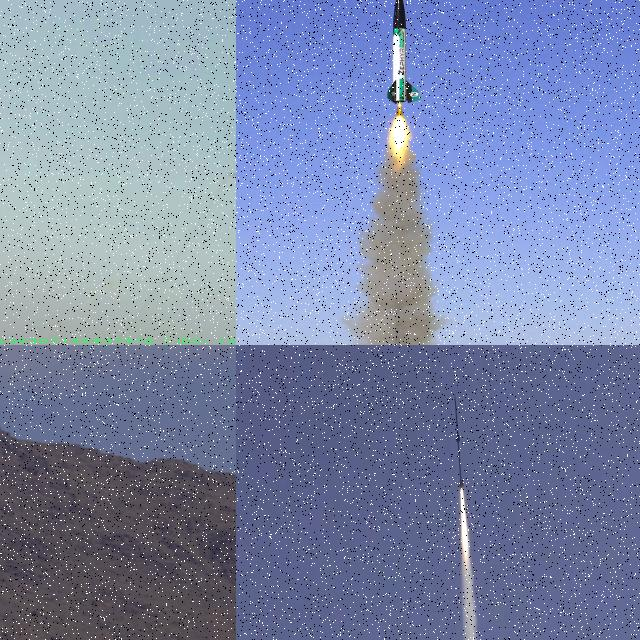Rocket: (385, 0, 422, 104), (454, 395, 466, 491)
